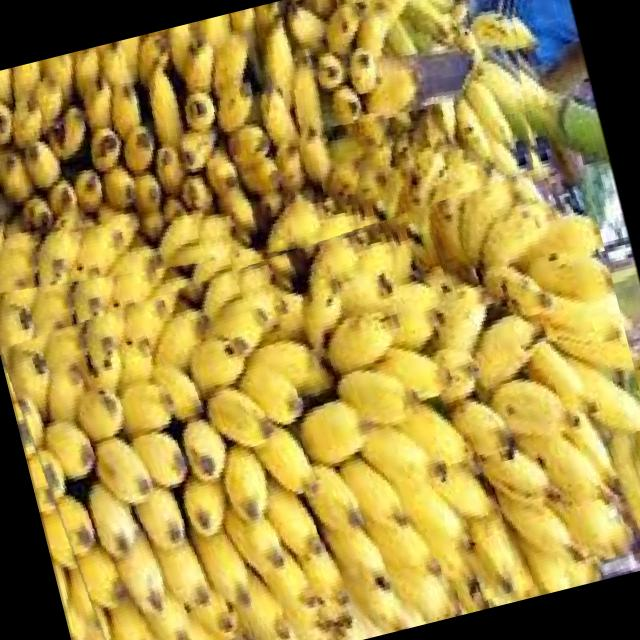Organic: (0, 153, 640, 640), (0, 0, 565, 347)
